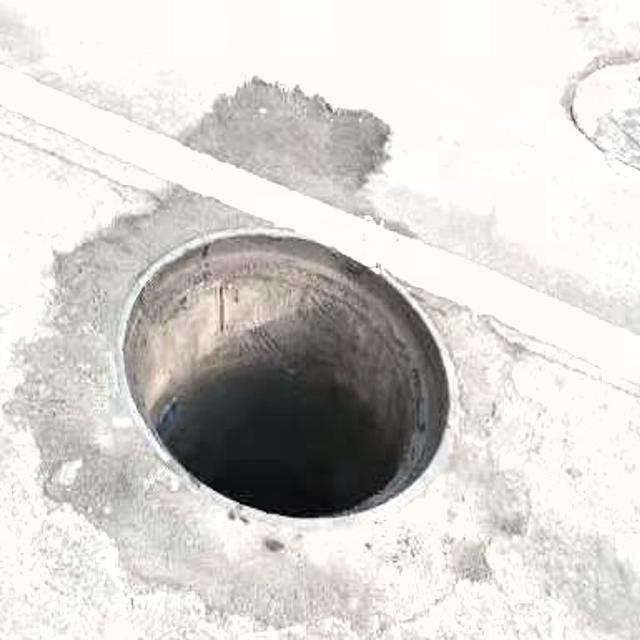lose: (124, 221, 463, 539)
